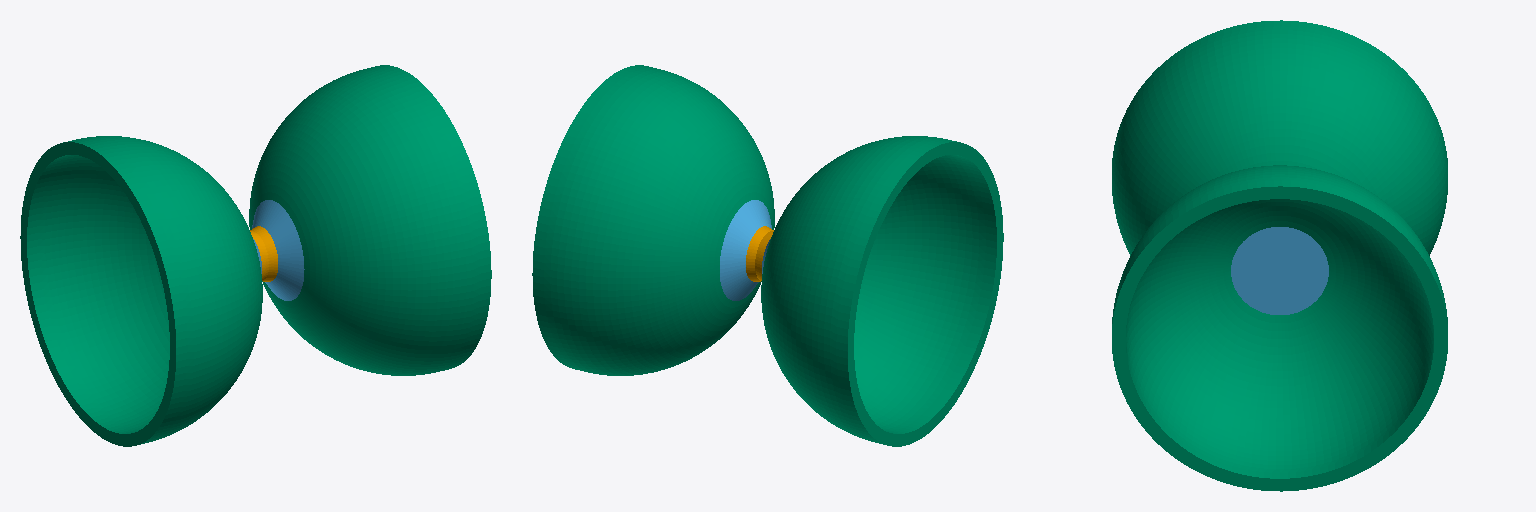
robot.urdf — diabolo:
<robot name="diabolo">
  <link name="axis">
    <contact>
      <lateral_friction value="1"/>
    </contact>
    <inertial>
      <origin rpy="0 0 0" xyz="0 0 0"/>
      <mass value="0.05"/>

      <inertia ixx="1.0e-05" ixy="0" ixz="0.0" iyy="1.0e-05" iyz="0.0" izz="1.0e-05"/>
    </inertial>
    <visual>
      <origin rpy="0 0 0" xyz="0 0 0"/>
      <geometry>
        <mesh filename="package://diabolo_scene_description/meshes/diabolo_axis.stl" scale="0.001 0.001 0.001"/>
      </geometry>

    </visual>
    <collision>
      <origin rpy="0 0 0" xyz="0 0 0"/>
      <geometry>
        <mesh filename="package://diabolo_scene_description/meshes/diabolo_axis.stl" scale="0.001 0.001 0.001"/>
      </geometry>
      <surface>
         <bounce restitution_coefficient="0.0" threshold="0.1"/>
      </surface>
    </collision>
  </link>

  <link name="fixators">
    <contact>
      <lateral_friction value="1"/>
    </contact>
    <inertial>
      <origin rpy="0 0 0" xyz="0 0 0"/>
      <mass value="0.05"/>

      <inertia ixx="1.0e-05" ixy="0" ixz="0.0" iyy="1.0e-05" iyz="0.0" izz="1.0e-05"/>
    </inertial>
    <visual>
      <origin rpy="0 0 0" xyz="0 0 0"/>
      <geometry>
        <mesh filename="package://diabolo_scene_description/meshes/diabolo_fixators.stl" scale="0.001 0.001 0.001"/>
      </geometry>

    </visual>
    <collision>
      <origin rpy="0 0 0" xyz="0 0 0"/>
      <geometry>
        <mesh filename="package://diabolo_scene_description/meshes/diabolo_fixators.stl" scale="0.001 0.001 0.001"/>
      </geometry>
      <surface>
         <bounce restitution_coefficient="0.0" threshold="0.1"/>
      </surface>
    </collision>
  </link>

  <link name="shell">
    <contact>
      <lateral_friction value="1"/>
    </contact>
    <inertial>
      <origin rpy="0 0 0" xyz="0 0 0"/>
      <mass value="0.2"/>

      <inertia ixx="1.0e-05" ixy="0" ixz="0.0" iyy="1.0e-05" iyz="0.0" izz="1.0e-05"/>
    </inertial>
    <visual>
      <origin rpy="0 0 0" xyz="0 0 0"/>
      <geometry>
        <mesh filename="package://diabolo_scene_description/meshes/diabolo_shell.stl" scale="0.001 0.001 0.001"/>
      </geometry>

    </visual>
    <collision>
      <origin rpy="0 0 0" xyz="0 0 0"/>
      <geometry>
        <mesh filename="package://diabolo_scene_description/meshes/diabolo_shell.stl" scale="0.001 0.001 0.001"/>
      </geometry>
      <surface>
         <bounce restitution_coefficient="0.0" threshold="0.1"/>
      </surface>
    </collision>
  </link>

    <joint name="axis_to_fixator" type="fixed">
      <parent link="axis"/>
      <child link="fixators"/>
      <origin rpy="0.0 0.0 0.0" xyz="0.0 0.0 0.0"/>
    </joint>

    <joint name="fixators_to_shell" type="fixed">
      <parent link="fixators"/>
      <child link="shell"/>
      <origin rpy="0.0 0.0 0.0" xyz="0.0 0.0 0.0"/>
    </joint>

  <gazebo reference="axis">
      <maxVel value="10.0"/>
      <mu1>1.0</mu1>
      <mu2>1.0</mu2>
      <material>Gazebo/White</material>
  </gazebo>
 <gazebo reference="fixators">
      <maxVel value="10.0"/>
      <mu1>1.0</mu1>
      <mu2>1.0</mu2>
      <material>Gazebo/Black</material>
  </gazebo>
  <gazebo reference="shell">
      <maxVel value="10.0"/>
      <mu1>1.0</mu1>
      <mu2>1.0</mu2>
      <material>Gazebo/Blue</material>
  </gazebo>
  <gazebo>
  <plugin name="diabolo_plugin" filename="libdiabolo_plugin.so">
    <stick_pos_topic>diabolo_stick_poses</stick_pos_topic>
    <string_length>1.58</string_length>
  </plugin>
  </gazebo>
  <!-- <gazebo reference="axis">
  <turnGravityOff>true</turnGravityOff>
  </gazebo>
  <gazebo reference="fixators">
  <turnGravityOff>true</turnGravityOff>
  </gazebo>
  <gazebo reference="shell">
  <turnGravityOff>true</turnGravityOff>
  </gazebo>-->
  
</robot>

--- Render facts (derived) ---
3 views of the same robot in one strip: view 1: azimuth 30°, elevation 25°; view 2: azimuth 150°, elevation 25°; view 3: azimuth 270°, elevation 25° (orthographic).
Robot: diabolo — 3 links, 2 joints (2 fixed); root link axis; default pose: every joint at zero.
Visible links, largest first — view 1: shell, fixators, axis; view 2: shell, fixators, axis; view 3: shell, fixators.
Boxes of the visible links, x1,y1,x2,y2 form: shell: (20,65,491,446); fixators: (252,200,304,300); axis: (250,226,277,281); shell: (532,65,1003,446); fixators: (720,200,771,300); axis: (746,226,773,281); shell: (1112,20,1447,491); fixators: (1231,227,1328,314).
Size in the robot's own frame: 0.14 by 0.12 by 0.12 metres.
Meshes: 3 distinct files referenced, 3 mesh visuals loaded (3 binary STL).